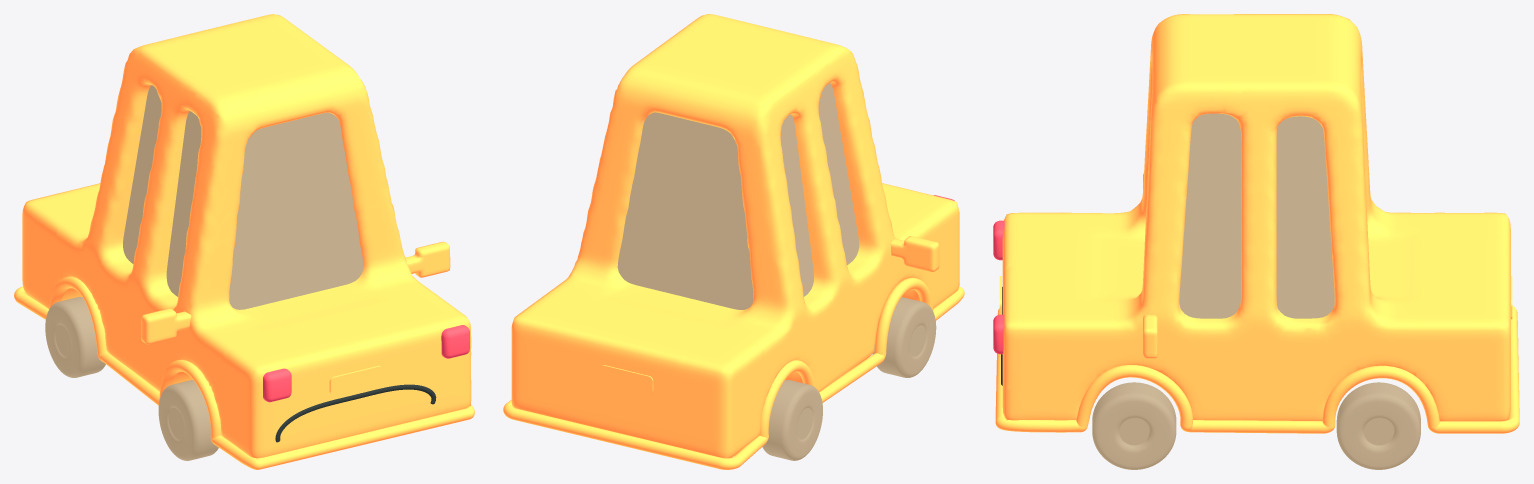
The model's file is MadCar.fbx.
3 views of the same model, side by side, from view 1: azimuth 30°, elevation 25°; view 2: azimuth 150°, elevation 25°; view 3: azimuth 270°, elevation 25° (orthographic). The views are drawn at different scales.
Visible parts, largest first — view 1: Polygon_remesh_2, Cube_2, Sweep_1, Wheels_1, Polygon_remesh, Polygon_remesh_1, Extrude, Smile, Cube, Cube_1; view 2: Polygon_remesh_2, Cube_2, Sweep_1, Wheels_1, Polygon_remesh, Extrude_1; view 3: Polygon_remesh_2, Cube_2, Wheels_1, Sweep_1, Polygon_remesh_1.
Part boxes in pixels (x1,y1,x2,y2): Polygon_remesh_2: [22, 14, 471, 458]; Cube_2: [123, 85, 363, 309]; Sweep_1: [14, 276, 474, 469]; Wheels_1: [45, 297, 218, 460]; Polygon_remesh: [141, 308, 191, 344]; Polygon_remesh_1: [405, 241, 450, 277]; Extrude: [329, 365, 383, 395]; Smile: [275, 384, 436, 442]; Cube: [263, 368, 291, 402]; Cube_1: [441, 325, 469, 358]; Polygon_remesh_2: [511, 14, 959, 458]; Cube_2: [617, 83, 859, 309]; Sweep_1: [503, 277, 964, 469]; Wheels_1: [762, 297, 936, 460]; Polygon_remesh: [890, 236, 939, 271]; Extrude_1: [600, 365, 653, 394]; Polygon_remesh_2: [1002, 14, 1510, 421]; Cube_2: [1179, 113, 1334, 318]; Wheels_1: [1092, 382, 1420, 469]; Sweep_1: [995, 305, 1519, 433]; Polygon_remesh_1: [1143, 315, 1157, 358].
Size of the model in its own units: 2301 by 2387 by 3193.
